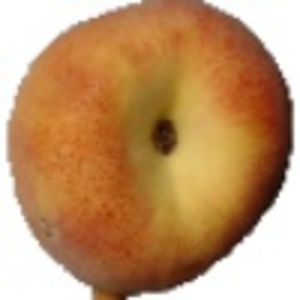pêssego: (1, 1, 296, 300)
